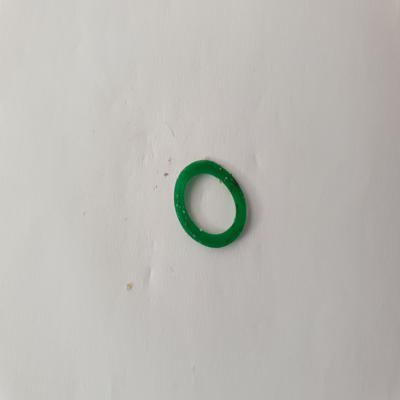plastic: (168, 155, 253, 255)
